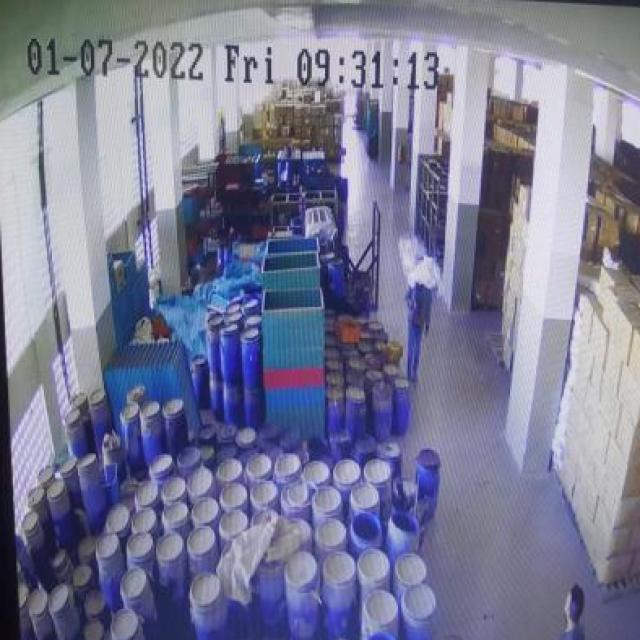fire: (394, 228, 446, 295)
